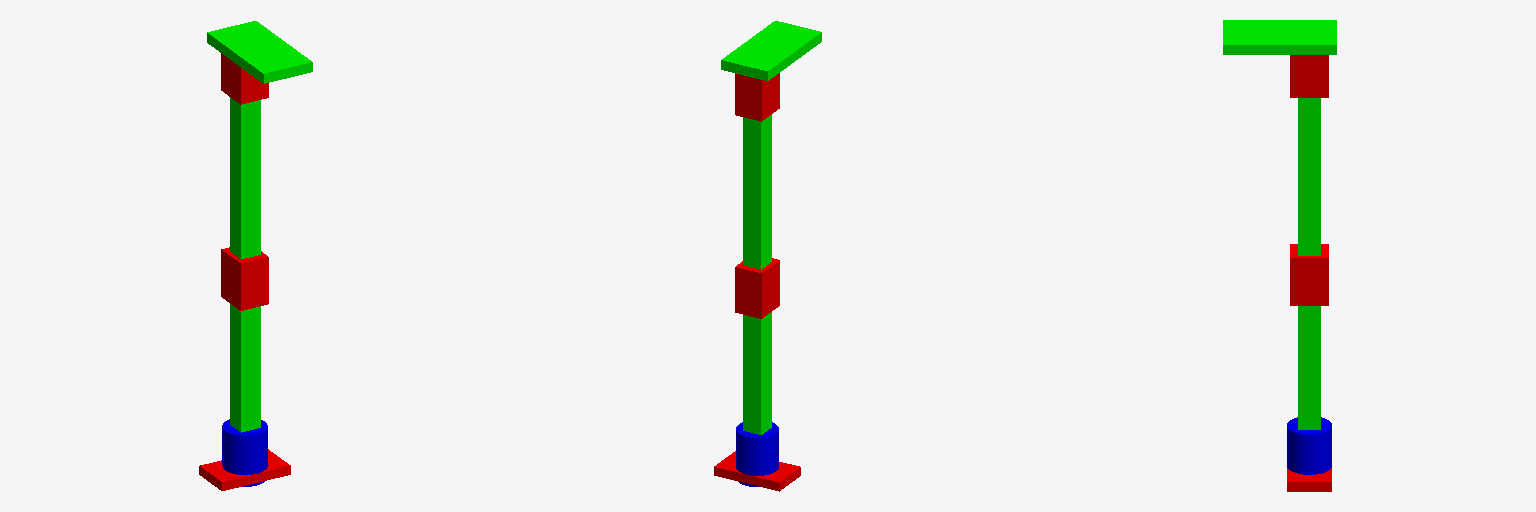
The robot description file, URDF, robot "DoublePendulumWithObstacle":
<?xml version="1.0"?>

<robot name="DoublePendulumWithObstacle">

<!-- World link as a common root -->
<link name="world"/>

  <!-- Connect the original root of the robot to the world -->
  <joint name="world_to_hips_link" type="fixed">
    <parent link="world"/>
    <child link="hips_link"/>
    <origin xyz="0 0 0" rpy="0 0 0"/>
  </joint>

  <!-- ... [rest of the original robot definition] ... -->

<link name="hips_link">
    <inertial>
      <origin xyz="0 0.00 0" rpy="0 0 0" />
      <mass value="0.00625" />
      <inertia ixx="5.2604166666667e-6" ixy="0" ixz="0" iyy="1.3541666666667e-6" iyz="0" izz="6.5104166666667e-6" />
    </inertial>
     <visual>
      <origin xyz="0 0.00 0" rpy="0 0 0" />
      <geometry>
         <box size=".05 .1 .01" />
      </geometry>
      <material name="green">
	       <color rgba="0 1 0 1" />
      </material>
    </visual>
  </link>

  <joint name="l_hip_to_motor" type="fixed">
    <parent link="hips_link" />
    <child link="l_hip_motor" />
    <origin xyz="0 .026 -0.04025" rpy="0 0 0"/>
  </joint>

  <link name="l_hip_motor">
    <inertial>
      <origin xyz="0 .0 0.012" rpy="0 0 0" />
      <mass value="0.083" />
      <inertia ixx=" 5.96686e-5" ixy="-8.14034e-8" ixz="1.30798e-7" iyy="5.68819e-5" iyz="-1.96593e-6" izz="4.90513e-5" />
    </inertial>
    <visual>
      <origin xyz="0 0 0.012" rpy="0 0 0" />
      <geometry>
         <box size=".0285 .034 .0465 " />
      </geometry>
      <material name="red">
	       <color rgba="1 0 0 1" />
      </material>
    </visual>
  </link>

  <joint name="l_hip" type="revolute">
    <parent link="l_hip_motor" />
    <child link="l_thigh_link" />
    <origin xyz="0 0 0" rpy="0 0 0" />
    <axis xyz="0 1 0" />
    <limit effort="3.4" lower="-1.57" upper="1.57" velocity="3.1415"/>
     <dynamics damping="1" />
    <safety_controller k_velocity="10" k_position="15" soft_lower_limit="-2.0" soft_upper_limit="0.5" />
  <!----></joint>

  <link name="l_thigh_link">
    <inertial>
      <origin xyz="0 0 -.088625" rpy="0 0 0" />
      <mass value=".118" />
      <inertia ixx="2.39417e-4" ixy="0" ixz="0" iyy="2.39417e-4" iyz="0" izz="7.867e-6" />
    </inertial>
    <visual>
      <origin xyz="0 0 -.088625" rpy="0 0 0" />
      <geometry>
         <box size=".02 .02 .15475" />
      </geometry>
      <material name="green">
	       <color rgba="0 1 0 1" />
      </material>
    </visual>
  </link>

  <joint name="l_thigh_link_to_motor" type="fixed">
    <parent link="l_thigh_link" />
    <child link="l_thigh_motor" />
    <origin xyz="0 0 -0.20125 " rpy="0 0 0"/>
  </joint>

  <link name="l_thigh_motor">
    <inertial>
      <origin xyz="0 0 0.012" rpy="0 0 0" />
      <mass value="0.083" />
      <inertia ixx="5.9855e-5" ixy="-7.46977e-8" ixz="1.208e-7" iyy=" 5.70714e-5" iyz="-1.92993e-6" izz="4.91179e-5" />
    </inertial>
    <visual>
      <origin xyz="0 0 0.012" rpy="0 0 0" />
      <geometry>
         <box size=".0285 .034 .0465 " />
      </geometry>
      <material name="red">
	       <color rgba="1 0 0 1" />
      </material>
    </visual>
  </link>

  <joint name="l_knee" type="revolute">
    <parent link="l_thigh_motor" />
    <child link="l_leg_link" />
    <origin xyz="0 0 0.0" />
    <axis xyz="0 1 0" />
    <limit effort="2.5" lower="-1.57" upper="1.57" velocity="5.23"/>
    <dynamics damping="1" />
    <safety_controller k_velocity="10" k_position="15" soft_lower_limit="-2.0" soft_upper_limit="0.5" />
  <!----></joint>


  <link name="l_leg_link">
    <inertial>
      <origin xyz="0 0 -0.091625" rpy="0 0 0" />
      <mass value="0.1" />
      <inertia ixx="2.18671e-4" ixy="0" ixz="0" iyy="2.18671e-4" iyz="0" izz="6.667e-6" />
    </inertial>
    <visual>
      <origin xyz="0 0 -0.091625" rpy="0 0 0" />
      <geometry>
         <box size=".02 .02 .16075" />
      </geometry>
      <material name="green">
	       <color rgba="0 1 0 1" />
      </material>
    </visual>
  </link>

  <joint name="l_ankle" type="fixed">
    <parent link="l_leg_link" />
    <child link="l_foot_link" />
    <origin xyz="0 0 -.172" />
    <axis xyz="0 1 0" />
    <limit effort="1000.0" lower="-0.785" upper="0.785" velocity="5.26"/>
    <dynamics damping="10" />
    <safety_controller k_velocity="10" k_position="15" soft_lower_limit="-2.0" soft_upper_limit="0.5" />
  <!---->
  </joint>


  <link name="l_foot_link">
    <inertial>
      <origin xyz="0 0 -0.0045" rpy="0 0 0" />
      <mass value="0.041" />
      <inertia ixx="5.7434e-6" ixy="0" ixz="0" iyy="1.7018e-5" iyz="0" izz="2.2208e-5" />
    </inertial>
    <visual>
      <origin xyz="0 0 -0.0045" rpy="0 0 0" />
        <geometry>
            <box size=".07 .04 0.009" />
        </geometry>
      <material name="red">
	       <color rgba="1 0 0 1" />
      </material>
    </visual>
  </link>

  <!-- Connect the obstacle to the world -->
  <joint name="world_to_obstacle" type="fixed">
    <parent link="world"/>
    <child link="obstacle"/>
    <origin xyz="0 .026 -0.4" rpy="0 0 0"/> <!-- Position of the obstacle -->
  </joint>

  <!-- Obstacle definition -->
  <link name="obstacle">
    <visual>
      <origin xyz="0 0 0" rpy="0 0 0"/>
      <geometry>
        <cylinder radius="0.02" length="0.05"/> <!-- Size of the obstacle -->
      </geometry>
      <material name="blue">
        <color rgba="0 0 1 1"/> <!-- Color of the obstacle -->
      </material>
    </visual>
  </link>

</robot>

--- What the picture shows (computed from the rendered views, not written in the file) ---
Views: 3 orthographic renders of the robot side by side, from view 1: azimuth 30°, elevation 25°; view 2: azimuth 150°, elevation 25°; view 3: azimuth 270°, elevation 25°.
Robot: DoublePendulumWithObstacle — 8 links, 7 joints (2 revolute, 5 fixed); root link world; default pose: every joint at zero.
Links seen in each view (by area): view 1: l_thigh_link, hips_link, l_leg_link, l_thigh_motor, obstacle, l_foot_link, l_hip_motor; view 2: l_thigh_link, hips_link, l_leg_link, l_thigh_motor, obstacle, l_hip_motor, l_foot_link; view 3: hips_link, l_thigh_link, l_leg_link, obstacle, l_thigh_motor, l_hip_motor, l_foot_link.
Link boxes in pixels (x1=…): l_thigh_link: x1=230, y1=97, x2=260, y2=258; hips_link: x1=207, y1=21, x2=312, y2=83; l_leg_link: x1=230, y1=304, x2=260, y2=432; l_thigh_motor: x1=221, y1=247, x2=268, y2=310; obstacle: x1=222, y1=419, x2=267, y2=486; l_foot_link: x1=199, y1=449, x2=290, y2=490; l_hip_motor: x1=221, y1=53, x2=268, y2=104; l_thigh_link: x1=743, y1=115, x2=771, y2=269; hips_link: x1=721, y1=21, x2=821, y2=80; l_leg_link: x1=743, y1=312, x2=771, y2=434; l_thigh_motor: x1=735, y1=258, x2=779, y2=318; obstacle: x1=736, y1=422, x2=778, y2=486; l_hip_motor: x1=735, y1=73, x2=779, y2=121; l_foot_link: x1=714, y1=451, x2=800, y2=491; hips_link: x1=1223, y1=20, x2=1336, y2=54; l_thigh_link: x1=1298, y1=98, x2=1320, y2=255; l_leg_link: x1=1298, y1=306, x2=1320, y2=429; obstacle: x1=1287, y1=417, x2=1331, y2=474; l_thigh_motor: x1=1290, y1=244, x2=1328, y2=305; l_hip_motor: x1=1290, y1=55, x2=1328, y2=97; l_foot_link: x1=1287, y1=468, x2=1331, y2=491.
Bounding box of the posed robot: 0.07 × 0.1 × 0.43 m (x, y, z).
Geometry: primitives only (box / cylinder / sphere), no mesh files.